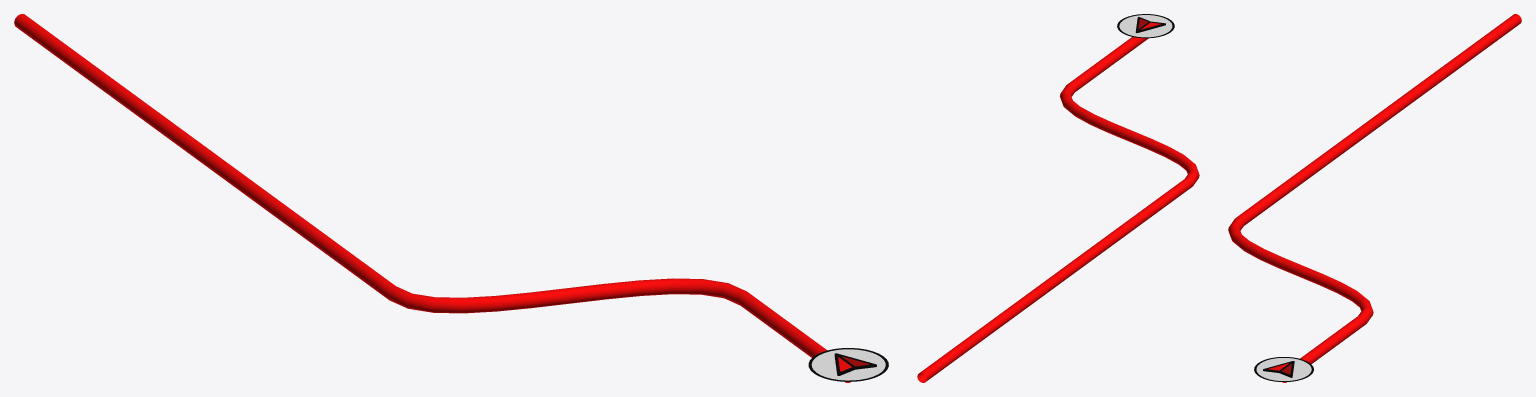
File: route_c93a30c5-0970-4065-ac8c-1547bb56f5d9_en_target.glb
The picture shows the model from 3 angles, left to right: view 1: azimuth 30°, elevation 25°; view 2: azimuth 150°, elevation 25°; view 3: azimuth 330°, elevation 25°; orthographic projection. The views are drawn at different scales.
Parts seen in each view (by area): view 1: Chefarzt der Gynäkologie, Navipfeil.008; view 2: Chefarzt der Gynäkologie, Navipfeil.008; view 3: Chefarzt der Gynäkologie, Navipfeil.008.
Part boxes in pixels (x1=…): Chefarzt der Gynäkologie: x1=14, y1=14, x2=851, y2=382; Navipfeil.008: x1=808, y1=348, x2=888, y2=381; Chefarzt der Gynäkologie: x1=917, y1=37, x2=1199, y2=382; Navipfeil.008: x1=1117, y1=14, x2=1174, y2=38; Chefarzt der Gynäkologie: x1=1228, y1=14, x2=1521, y2=382; Navipfeil.008: x1=1254, y1=357, x2=1313, y2=382.
Size of the model in its own units: 1.76 by 0.1086 by 5.99.
